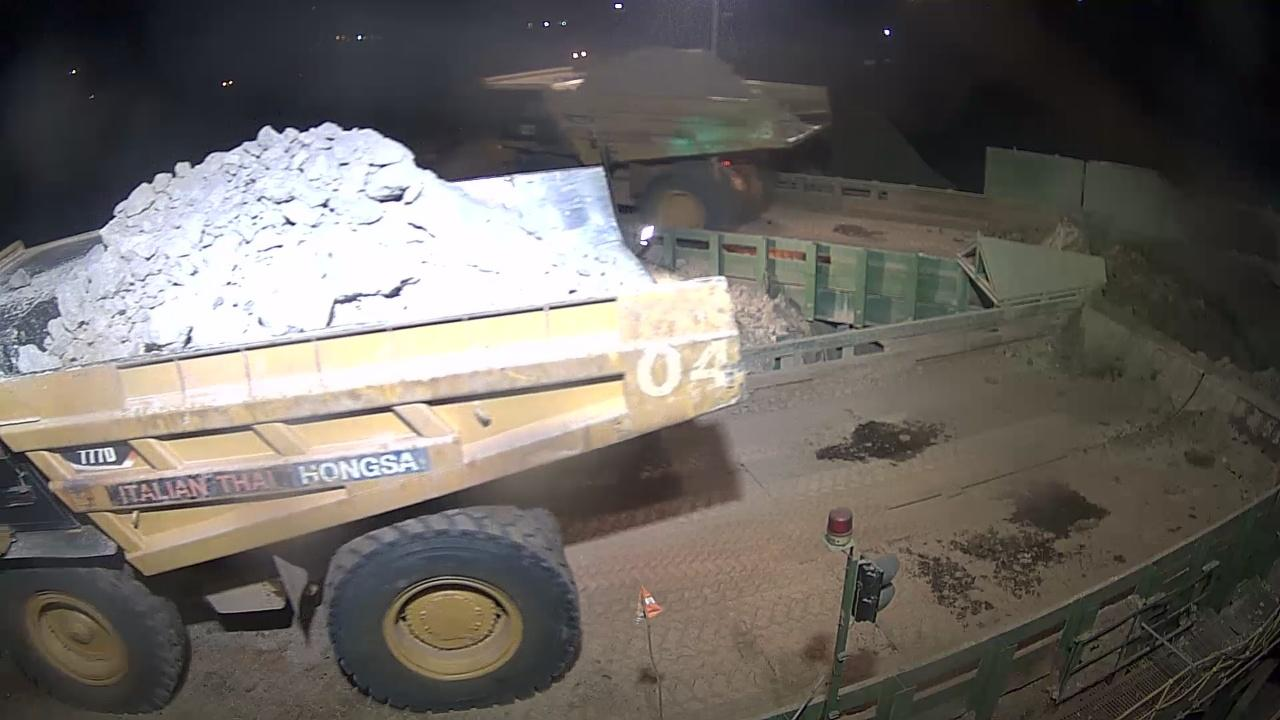company: (109, 453, 447, 501)
full_load: (71, 138, 581, 336), (574, 39, 773, 100)
mining_truck: (0, 122, 738, 720), (477, 29, 840, 237)
tail_number: (638, 343, 740, 400)
truck_size: (62, 432, 136, 471)
